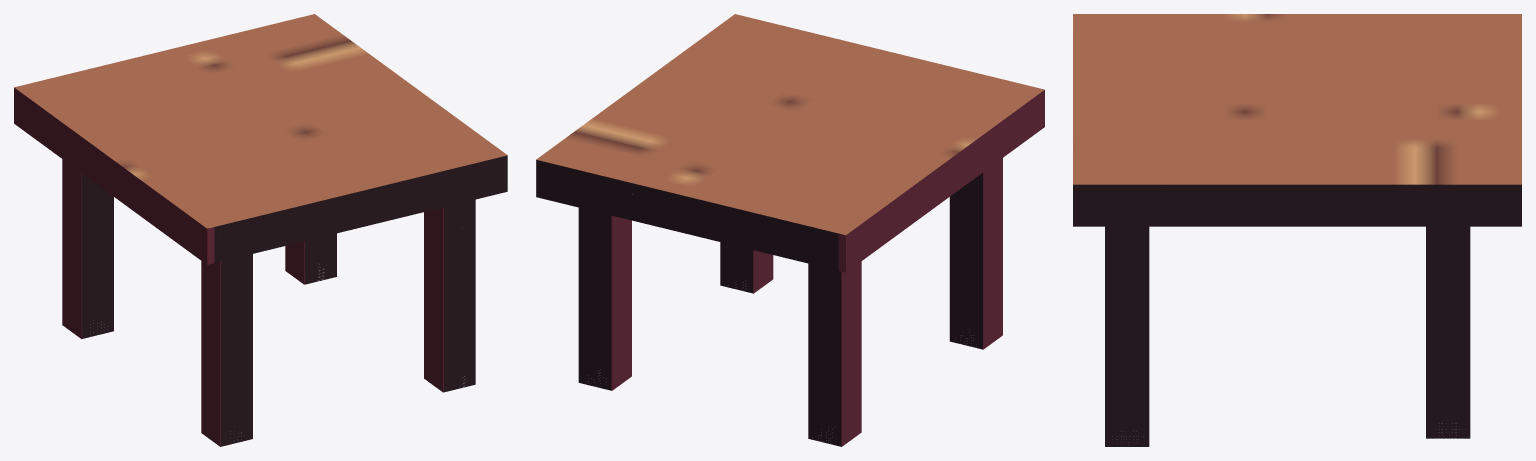
The model's file is MesaQuadrada.fbx.
3 renders of one model, left to right at view 1: azimuth 30°, elevation 25°; view 2: azimuth 150°, elevation 25°; view 3: azimuth 270°, elevation 25°, orthographic. The views are drawn at different scales.
Visible parts, largest first — view 1: MesaQuadrada; view 2: MesaQuadrada; view 3: MesaQuadrada.
Part boxes in pixels (x1,y1,x2,y2): MesaQuadrada: (14, 14, 507, 446); MesaQuadrada: (536, 14, 1044, 446); MesaQuadrada: (1073, 14, 1521, 446).
Bounding box in the file's own units: 66.53 × 74.01 × 49.66.
